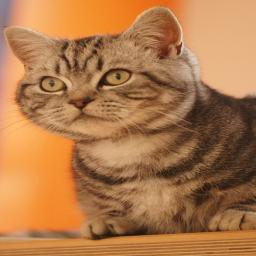catnose: (67, 98, 94, 110)
